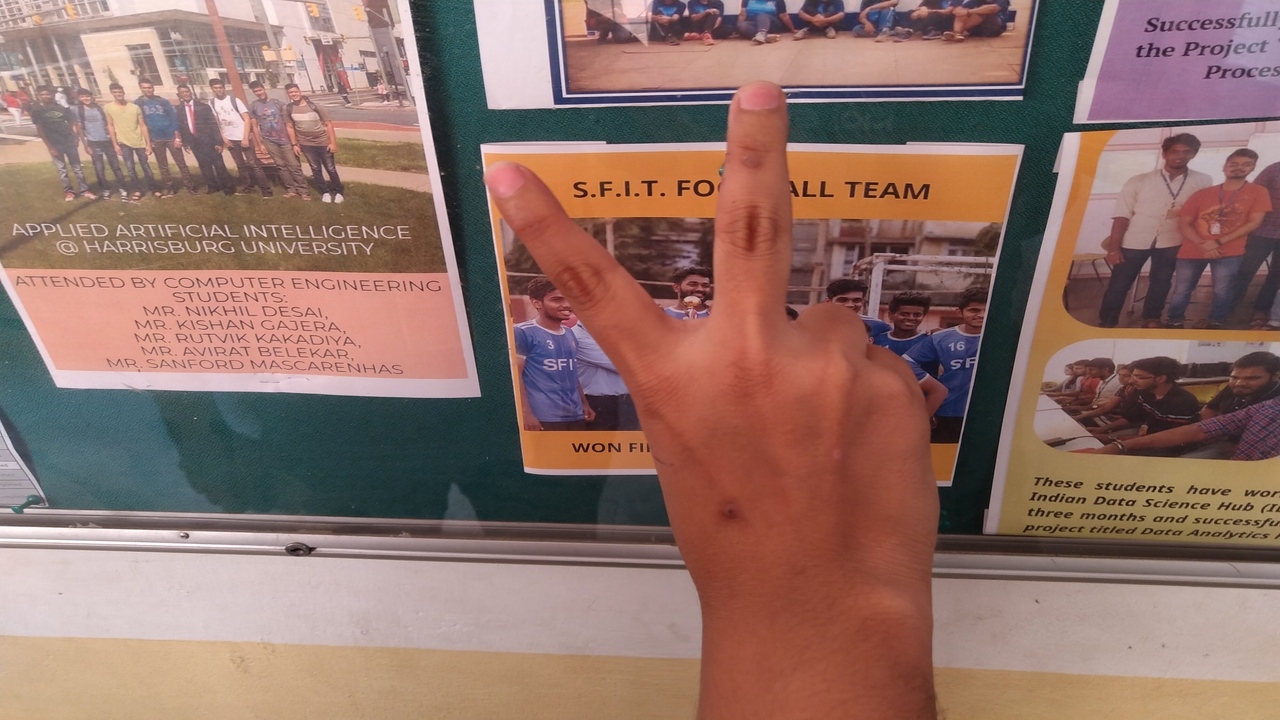fingertip: (482, 150, 546, 214), (728, 68, 790, 128)
